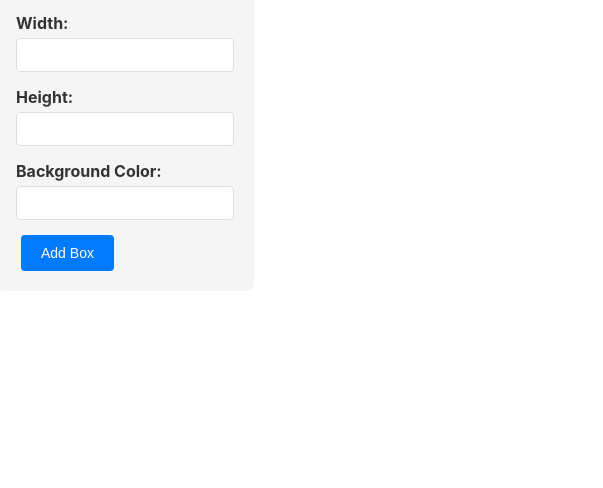
Scenario: can add a new box
Type "100" into the number field labelled "Width:" at (125, 55), box [16,38,234,72]
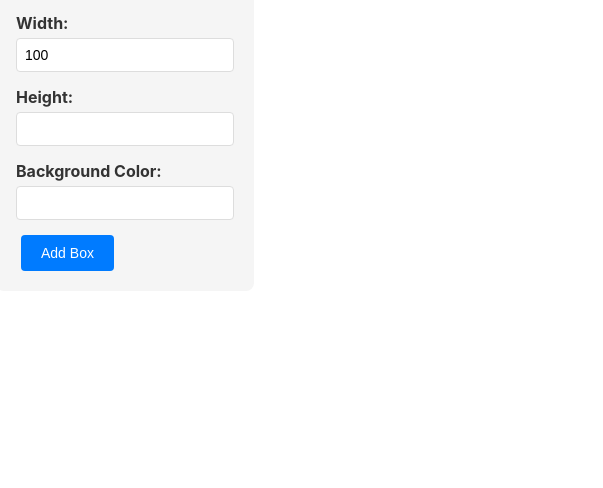
Type "100" into the number field labelled "Height:" at (125, 129), box [16,112,234,146]
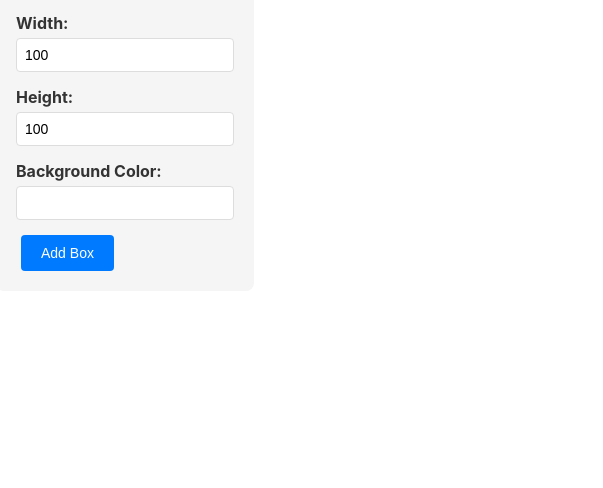
Type "red" into the field labelled "Background Color:" at (125, 203), box [16,186,234,220]
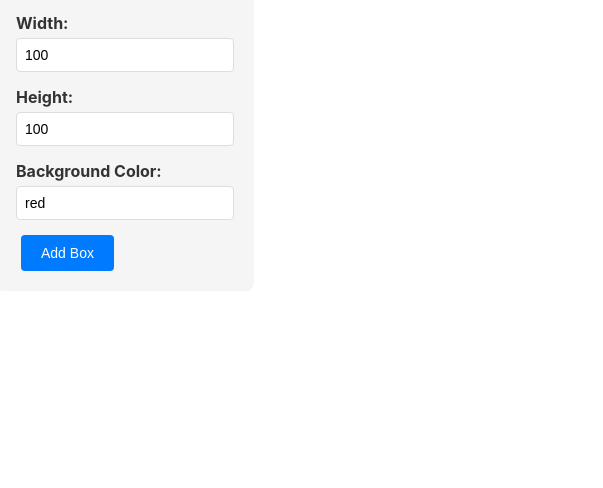
Click the button "Add Box" at (67, 253), box [21,235,114,271]
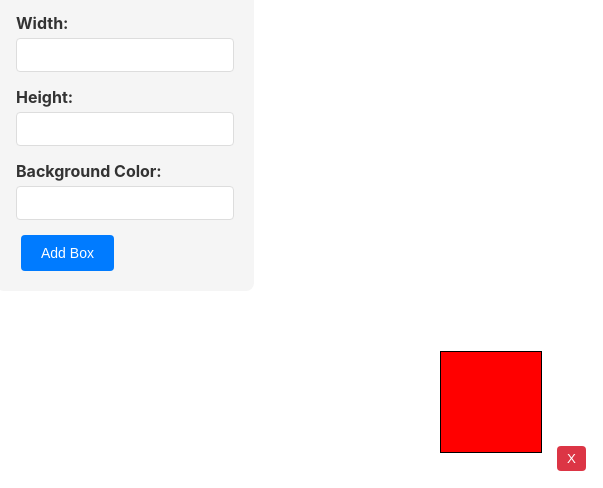
Check: the button "X" is shown, box [557,446,586,471]
